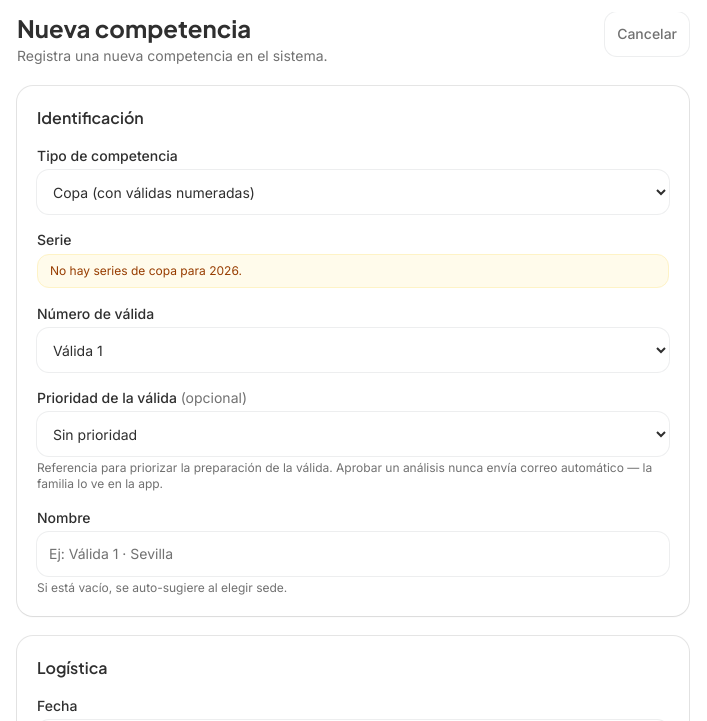
it: CompetitionFormPage spec-023 — nivel de serie de campeonato › tipo=Campeonato + form de crear serie abierto → select de nivel visible, default Departamental
Select "Campeonato (evento único anual)" in the dropdown labelled "Tipo de competencia" at (353, 192), box x1=37 y1=170 x2=669 y2=214
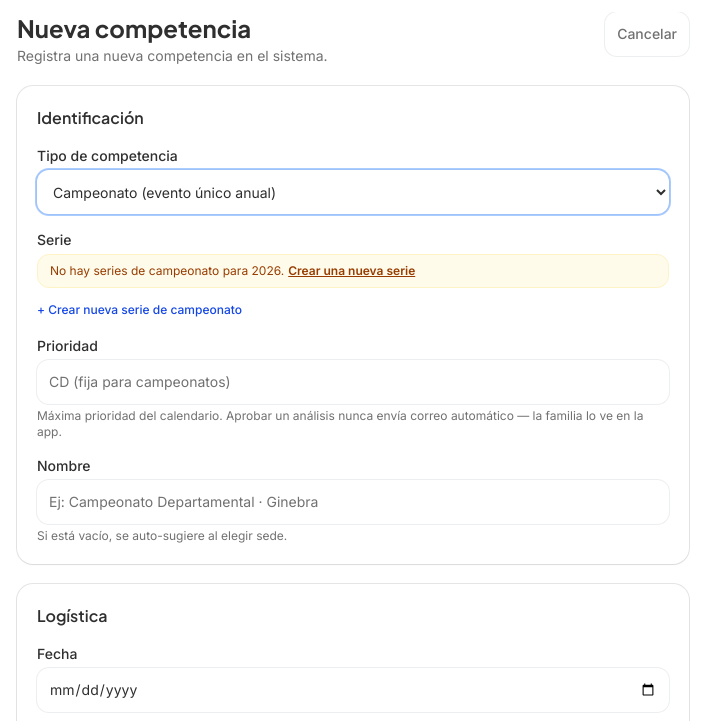
Click the button "+ Crear nueva serie de campeonato" at (140, 310), box x1=37 y1=302 x2=242 y2=318
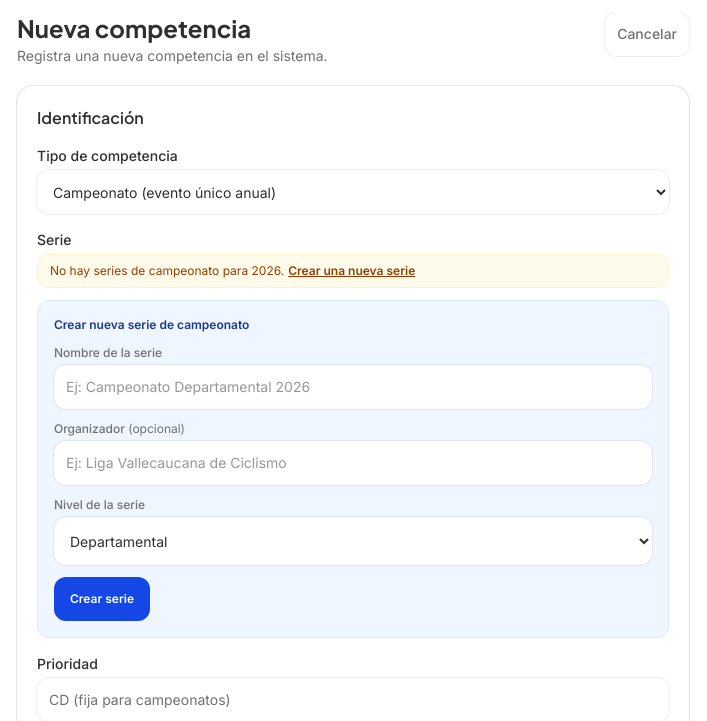
Result: the dropdown named "Nivel de la serie" shows "Departamental" at x1=54 y1=517 x2=652 y2=565
